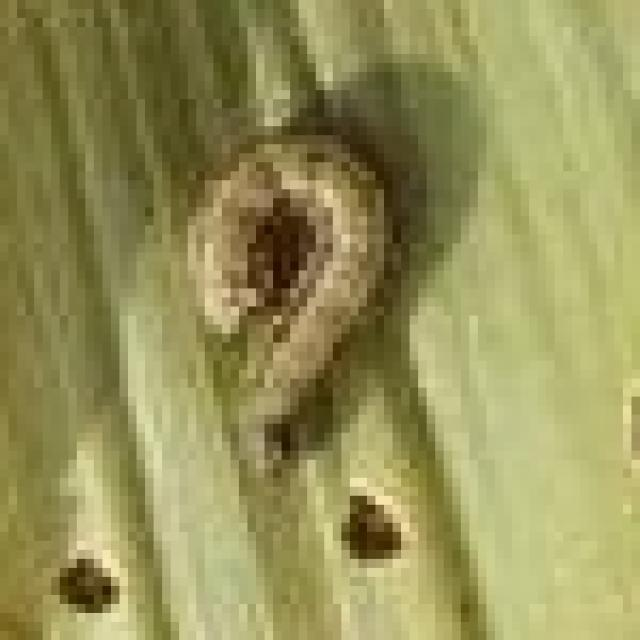BeetArmyWorm-Larva-: (128, 106, 458, 492)
